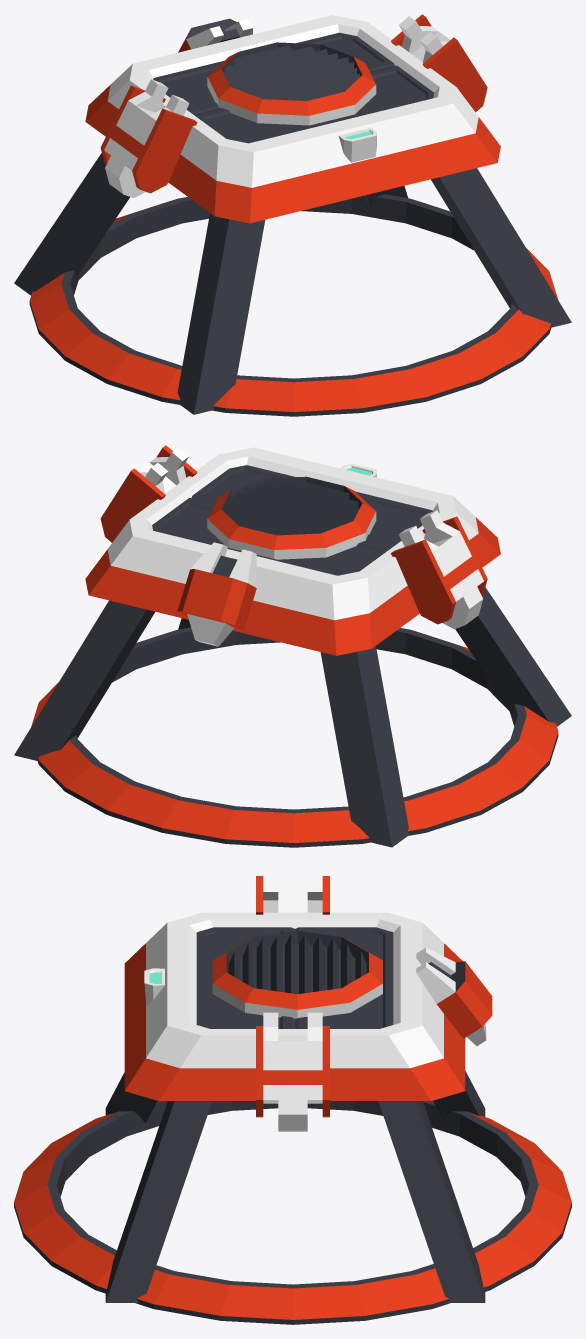
File: SafePointWeapon.fbx
3 renders of one model, top to bottom at view 1: azimuth 30°, elevation 25°; view 2: azimuth 150°, elevation 25°; view 3: azimuth 270°, elevation 25°, orthographic. The views are drawn at different scales.
Parts seen in each view (by area): view 1: mergedBlocks; view 2: mergedBlocks; view 3: mergedBlocks.
Boxes of the visible parts, x1=… form: mergedBlocks: x1=14, y1=14, x2=571, y2=416; mergedBlocks: x1=14, y1=445, x2=571, y2=847; mergedBlocks: x1=14, y1=876, x2=571, y2=1324.
Size of the model in its own units: 0.2337 by 0.1205 by 0.2337.
